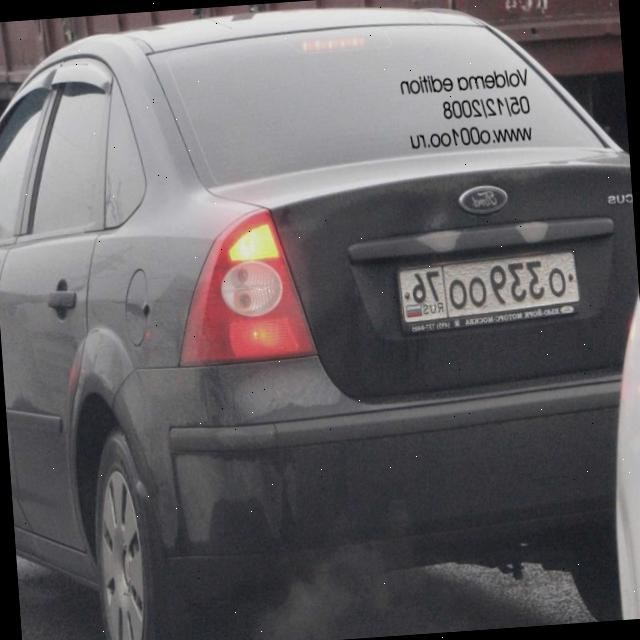number-plates: (394, 248, 583, 341)
